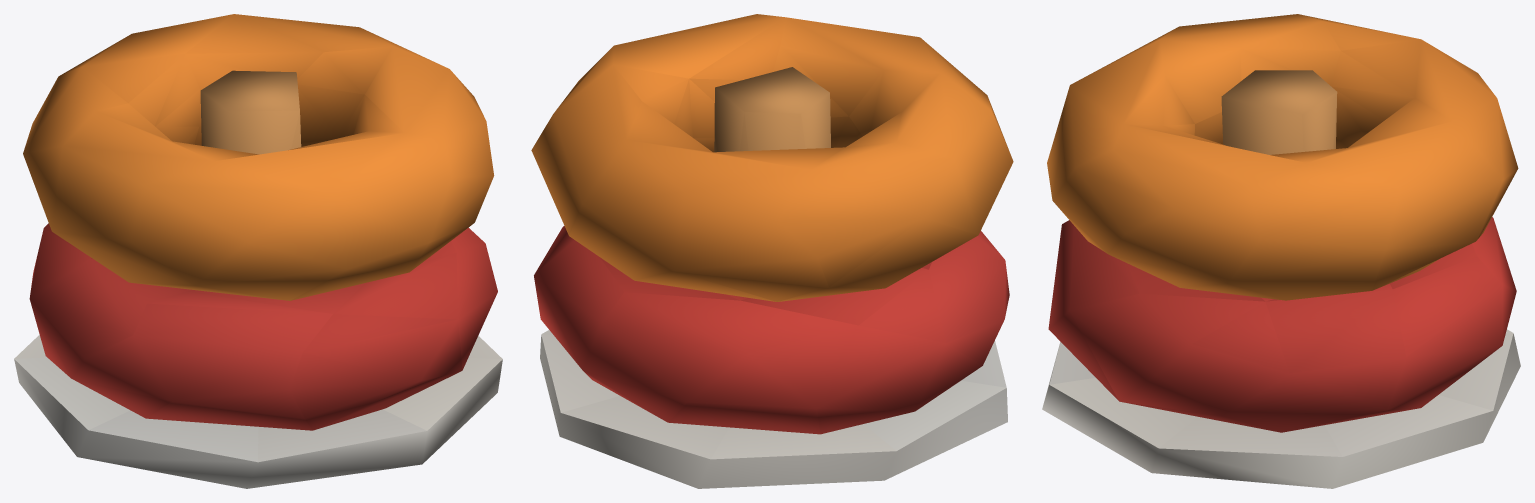
The model's file is den_ring_stack_lod2.glb.
3 views of the same model, side by side, from view 1: azimuth 30°, elevation 25°; view 2: azimuth 150°, elevation 25°; view 3: azimuth 270°, elevation 25° (orthographic).
Visible parts, largest first — view 1: den_ring_stack.001; view 2: den_ring_stack.001; view 3: den_ring_stack.001.
Part boxes in pixels (<box>): den_ring_stack.001: <box>14,14,502,488</box>; den_ring_stack.001: <box>531,14,1013,488</box>; den_ring_stack.001: <box>1042,14,1520,488</box>.
Bounding box in the file's own units: 5.26 × 3.6 × 5.26.
